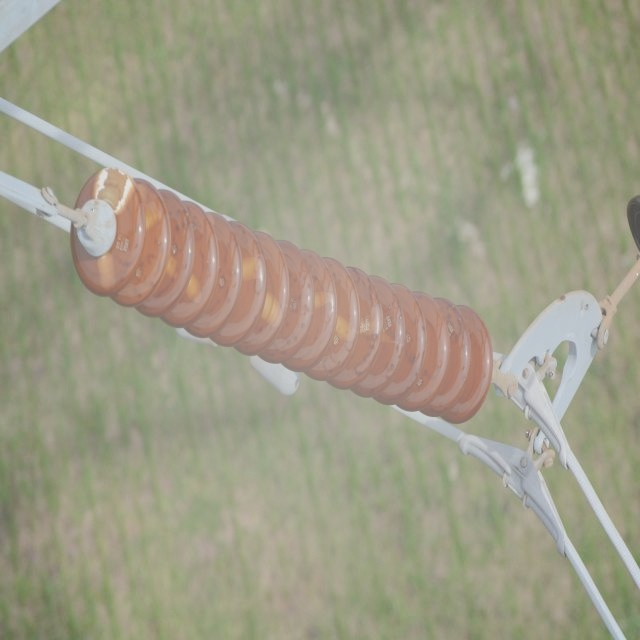insulator: (70, 170, 493, 422)
